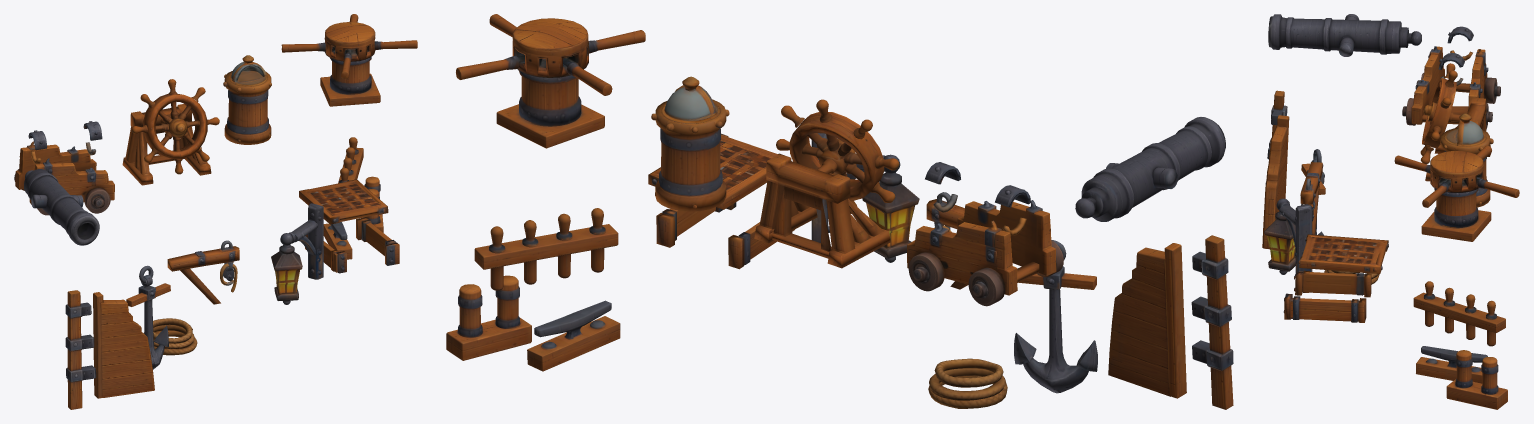
Rendered from fittings.glb.
3 views of the same model, side by side, from view 1: azimuth 30°, elevation 25°; view 2: azimuth 150°, elevation 25°; view 3: azimuth 270°, elevation 25° (orthographic). The views are drawn at different scales.
Parts seen in each view (by area): view 1: c84ba6f9_336e_4ebc_9ab2_1a045c0d3f79; view 2: c84ba6f9_336e_4ebc_9ab2_1a045c0d3f79; view 3: c84ba6f9_336e_4ebc_9ab2_1a045c0d3f79.
Boxes of the visible parts, x1,y1,x2,y2 form: c84ba6f9_336e_4ebc_9ab2_1a045c0d3f79: [14, 14, 417, 409]; c84ba6f9_336e_4ebc_9ab2_1a045c0d3f79: [446, 14, 1233, 409]; c84ba6f9_336e_4ebc_9ab2_1a045c0d3f79: [1262, 14, 1519, 409].
Size of the model in its own units: 0.9995 by 0.5181 by 0.4985.
1 material, 1 textured.
